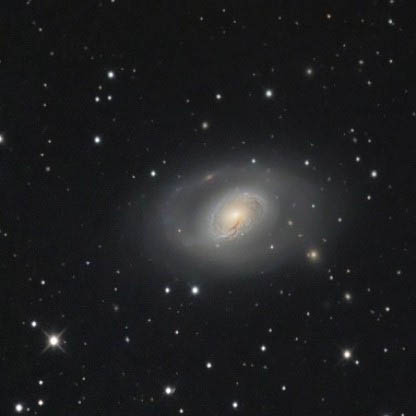Messier 96: (132, 150, 350, 292)
